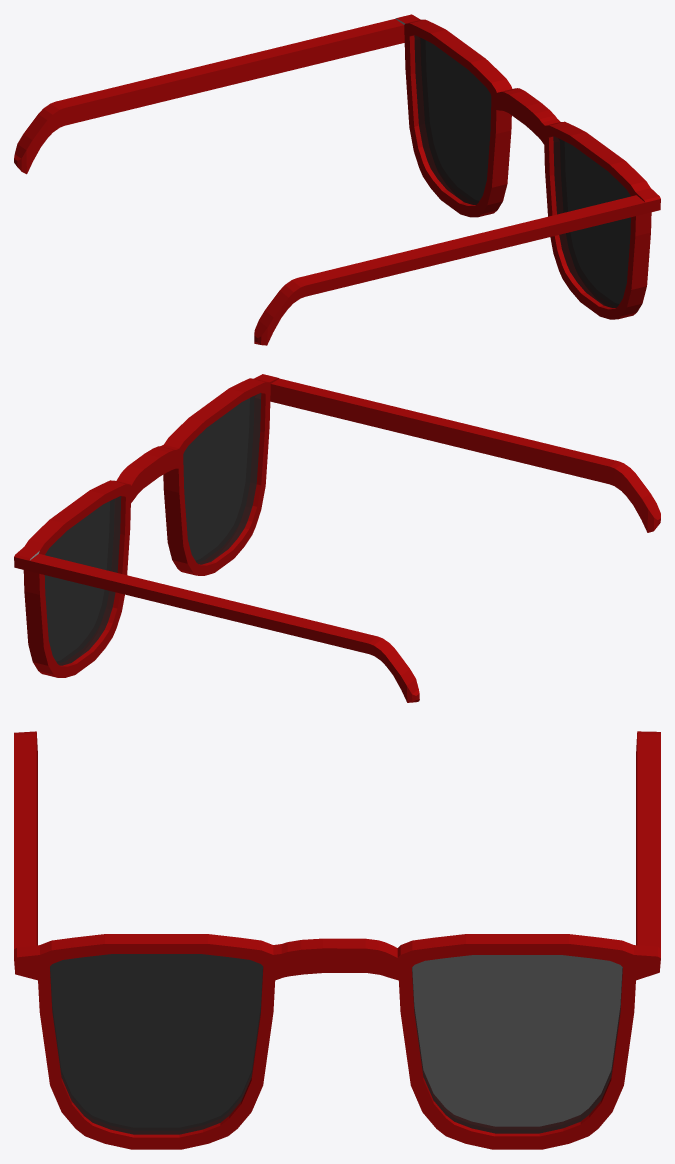
The model's file is gafas2.fbx.
The picture shows the model from 3 angles, top to bottom: view 1: azimuth 30°, elevation 25°; view 2: azimuth 150°, elevation 25°; view 3: azimuth 270°, elevation 25°; orthographic projection. The views are drawn at different scales.
Visible parts, largest first — view 1: glasses2:Mesh; view 2: glasses2:Mesh; view 3: glasses2:Mesh.
Boxes of the visible parts, left/top/right/bottom form: glasses2:Mesh: left=14, top=14, right=660, bottom=345; glasses2:Mesh: left=14, top=374, right=660, bottom=702; glasses2:Mesh: left=14, top=731, right=660, bottom=1149.
Bounding box in the file's own units: 6.27 × 2.38 × 6.79.
